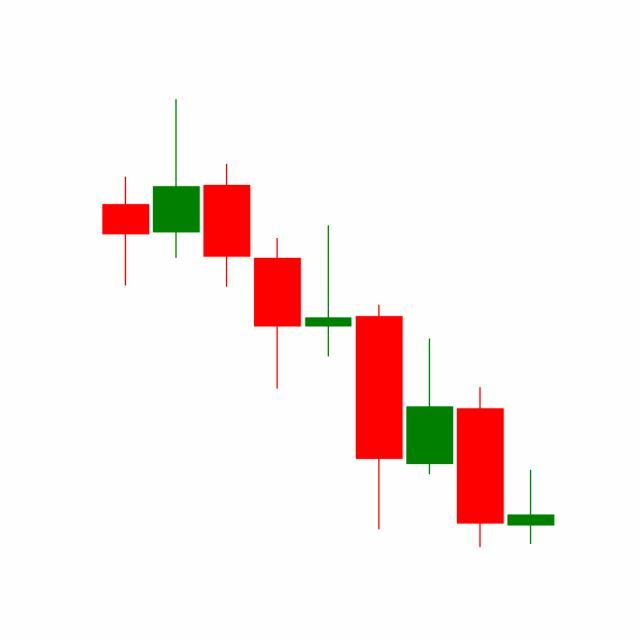Hikkake Pattern: (252, 221, 506, 548)
